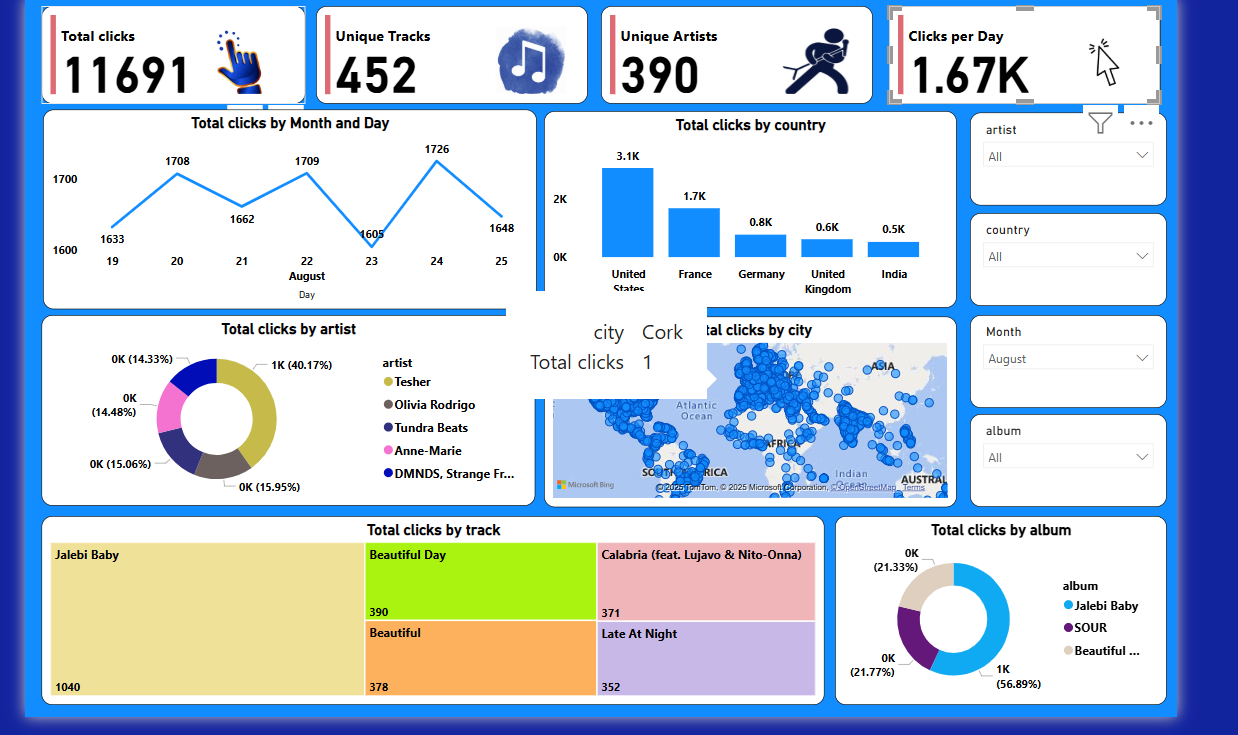

The page's visual inventory and layout, read from the dashboard file:
{"tool":"powerbi","page":{"name":"Page 1","canvas":[1280,800],"ordinal":0},"visuals":[{"type":"cardVisual","fields":{"Data":["traffic.Total clicks"]},"box":[18.3,10,293.3,108.3],"z":0},{"type":"cardVisual","fields":{"Data":["traffic.Unique Tracks"]},"box":[323.3,10,301.7,108.3],"z":1000},{"type":"cardVisual","fields":{"Data":["traffic.Unique Artists"]},"box":[640,10,301.7,108.3],"z":2000},{"type":"cardVisual","fields":{"Data":["traffic.Clicks per Day"]},"box":[960,10,301.7,108.3],"z":3000},{"type":"lineChart","fields":{"Category":["traffic.date.Variation.Date Hierarchy.Month","traffic.date.Variation.Date Hierarchy.Day"],"Y":["traffic.Total clicks"]},"box":[20,125,548.3,221.7],"z":4000},{"type":"slicer","fields":{"Values":["traffic.date.Variation.Date Hierarchy.Month"]},"box":[1050,353.3,218.3,103.3],"z":5000},{"type":"slicer","fields":{"Values":["traffic.country"]},"box":[1050,240,218.3,103.3],"z":6000},{"type":"clusteredColumnChart","fields":{"Category":["traffic.country"],"Y":["traffic.Total clicks"]},"box":[576.7,126.7,458.3,218.3],"z":7000},{"type":"donutChart","fields":{"Category":["traffic.artist"],"Y":["traffic.Total clicks"]},"box":[18.3,353.3,548.3,211.7],"z":8000},{"type":"map","fields":{"Category":["traffic.city"],"Size":["traffic.Total clicks"]},"box":[576.7,355,458.3,211.7],"z":9000},{"type":"slicer","fields":{"Values":["traffic.artist"]},"box":[1050,128.3,218.3,103.3],"z":10000},{"type":"treemap","fields":{"Group":["traffic.track"],"Values":["traffic.Total clicks"]},"box":[18.3,576.7,870,210],"z":11000},{"type":"slicer","fields":{"Values":["traffic.album"]},"box":[1050,463.3,218.3,103.3],"z":12000},{"type":"donutChart","fields":{"Category":["traffic.album"],"Y":["traffic.Total clicks"]},"box":[900,576.7,368.3,210],"z":12001}]}

Visuals, with their boxes in screenshot pixels (x1, y1, x2, y2):
cardVisual - traffic.Total clicks: bbox=[36, 0, 302, 98]
cardVisual - traffic.Unique Tracks: bbox=[312, 0, 586, 98]
cardVisual - traffic.Unique Artists: bbox=[599, 0, 873, 98]
cardVisual - traffic.Clicks per Day: bbox=[889, 0, 1163, 98]
lineChart - traffic.date.Variation.Date Hierarchy.Month x traffic.date.Variation.Date Hierarchy.Day: bbox=[37, 104, 534, 304]
slicer - traffic.date.Variation.Date Hierarchy.Month: bbox=[971, 310, 1169, 404]
slicer - traffic.country: bbox=[971, 208, 1169, 301]
clusteredColumnChart - traffic.country x traffic.Total clicks: bbox=[542, 105, 957, 303]
donutChart - traffic.artist x traffic.Total clicks: bbox=[36, 310, 533, 502]
map - traffic.city x traffic.Total clicks: bbox=[542, 312, 957, 504]
slicer - traffic.artist: bbox=[971, 107, 1169, 200]
treemap - traffic.track x traffic.Total clicks: bbox=[36, 513, 824, 703]
slicer - traffic.album: bbox=[971, 410, 1169, 504]
donutChart - traffic.album x traffic.Total clicks: bbox=[835, 513, 1169, 703]
